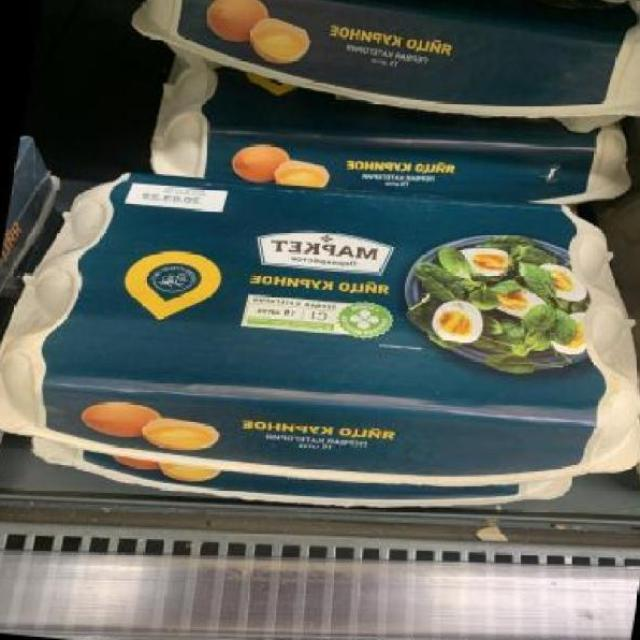Egg: (142, 73, 638, 217), (122, 0, 640, 134)
